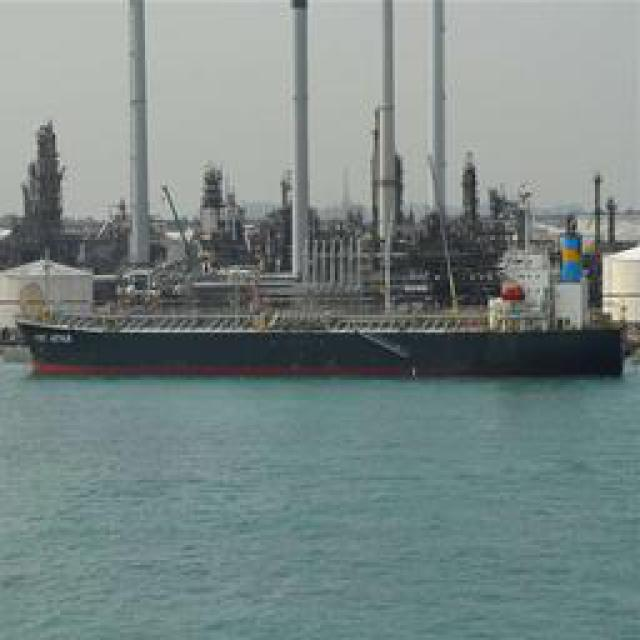Ship: (24, 307, 614, 380)
